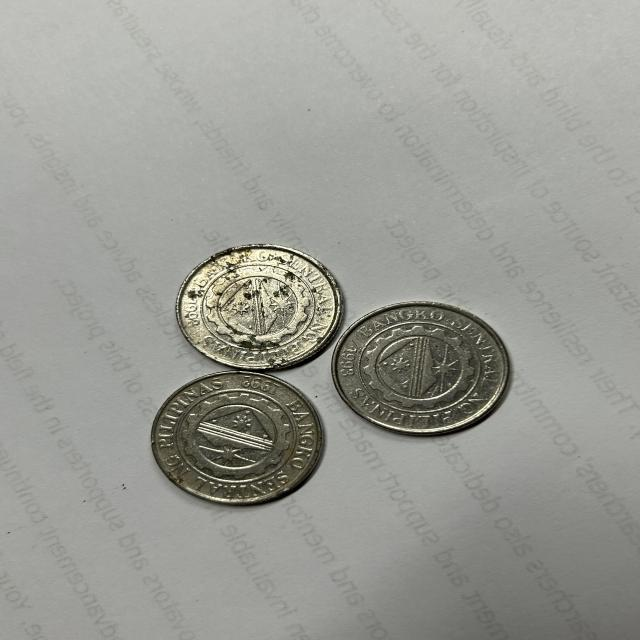1_Old_Back: (171, 384, 306, 489), (357, 318, 485, 417), (200, 262, 314, 360)
